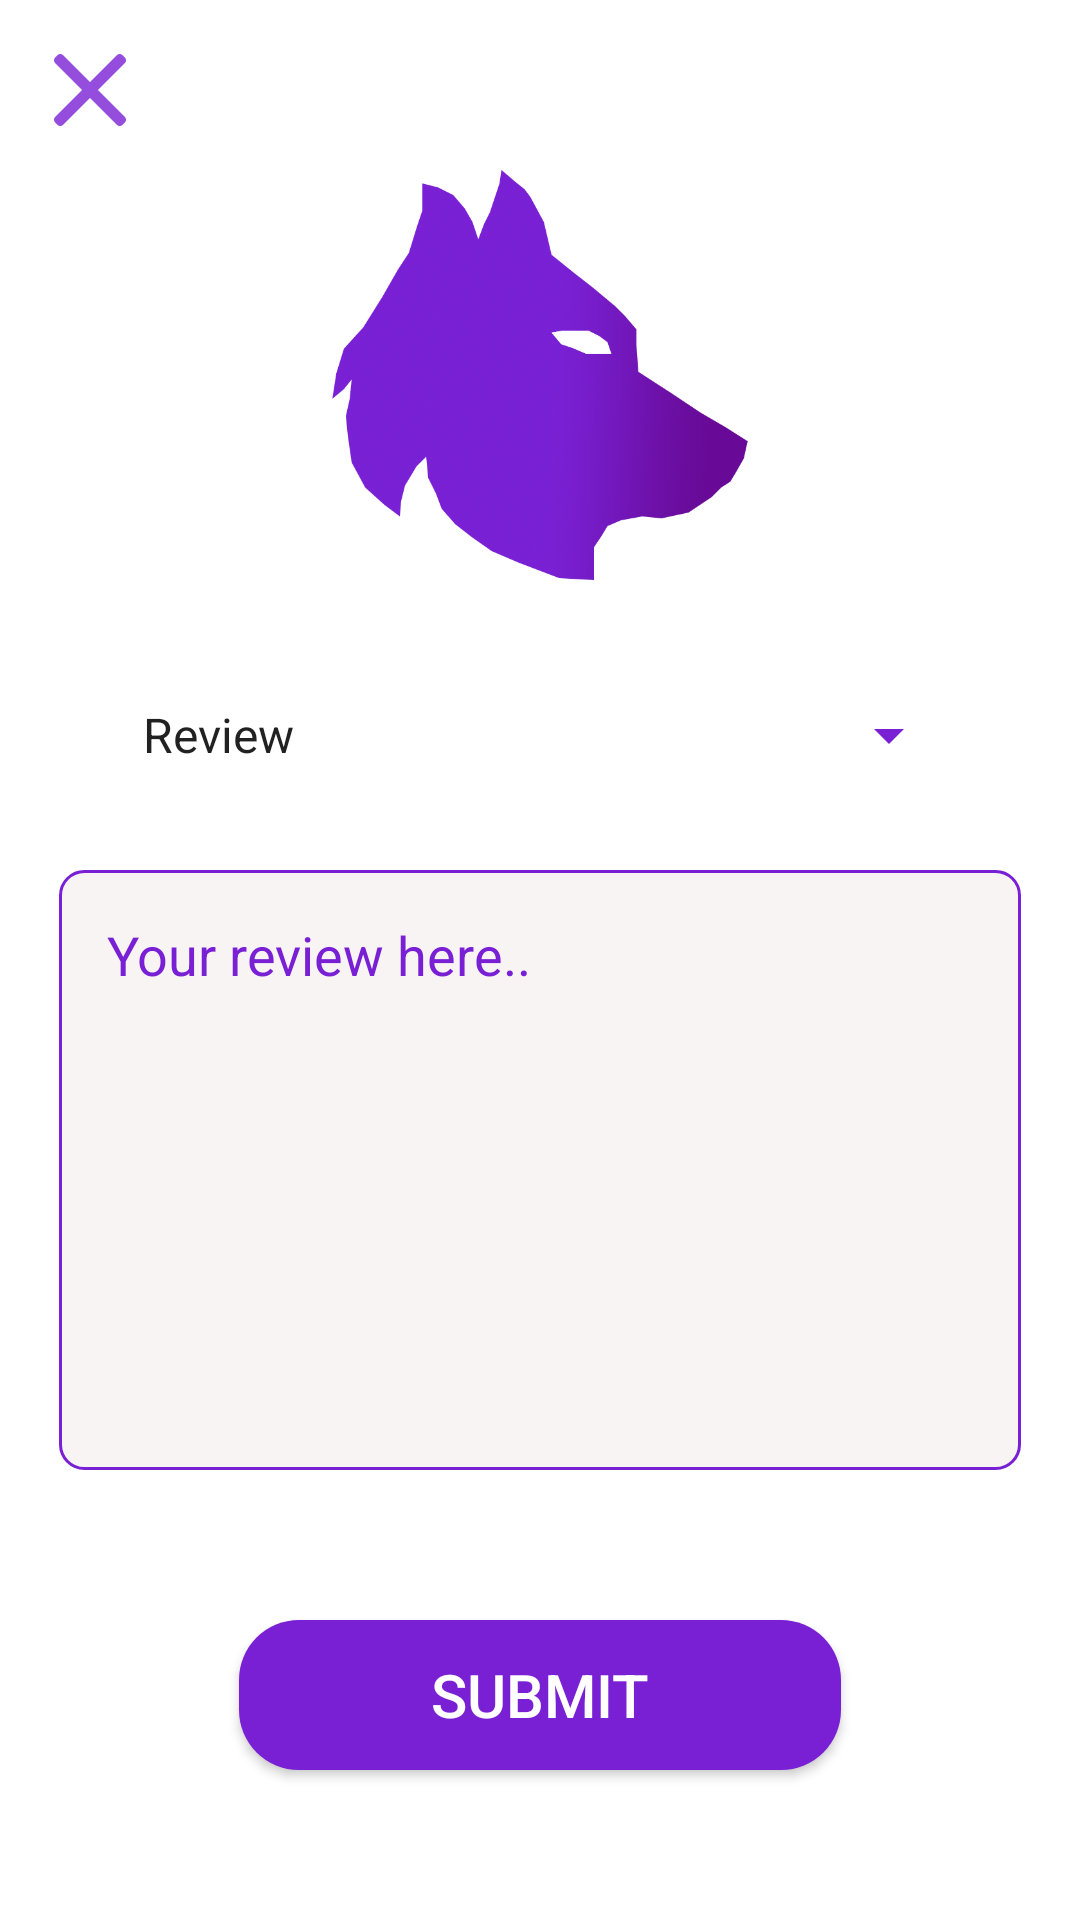

Icons on this 1080*1920 Android screen, each with the point to tap as (x=x, y=y):
cancel: (x=90, y=90)
